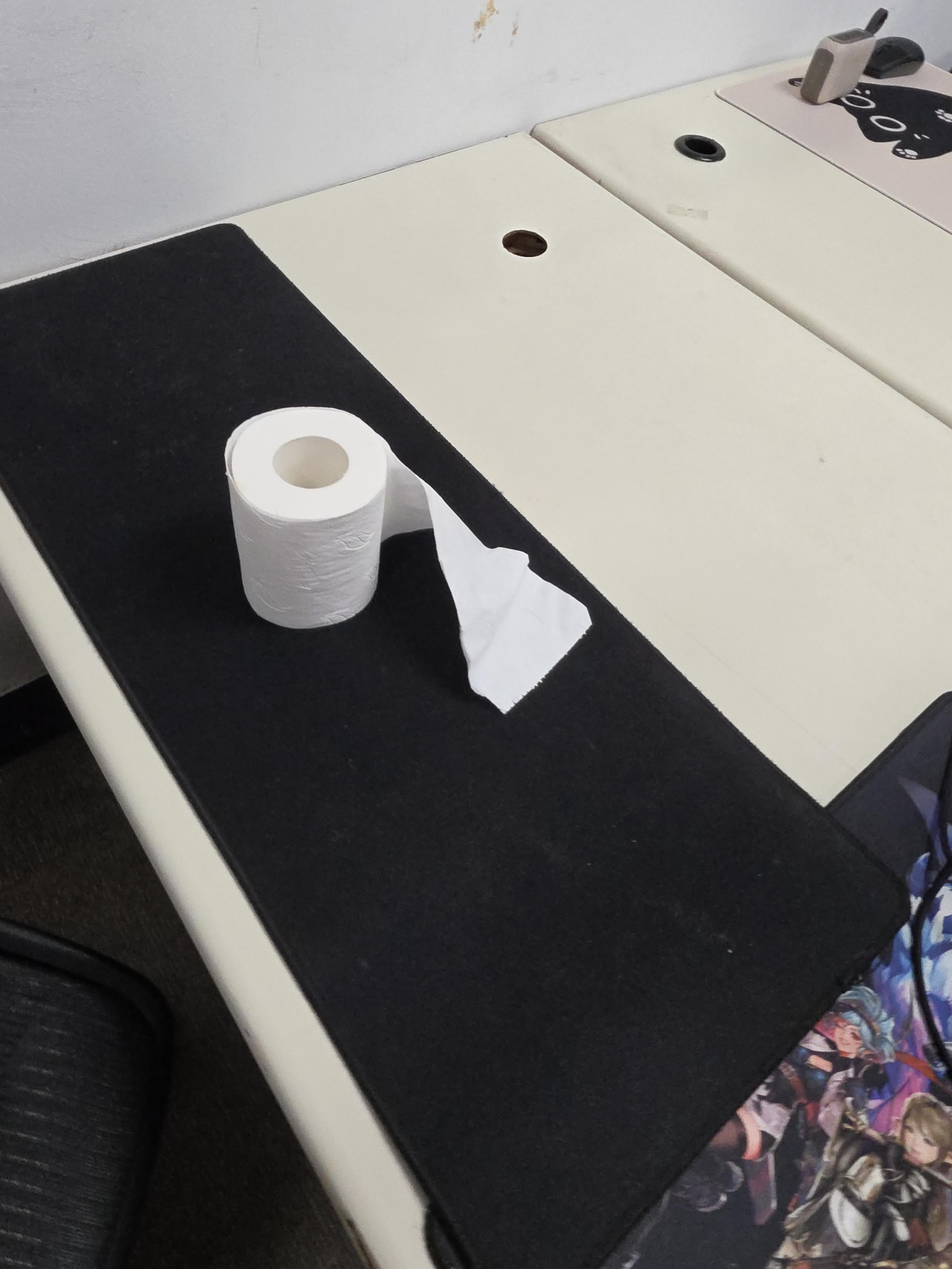tissue: (224, 406, 593, 715)
